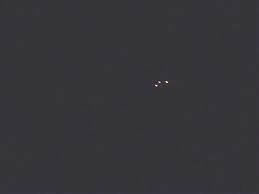Plane: (143, 75, 175, 92)
